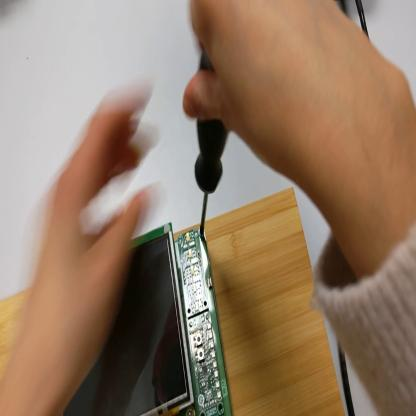hand: (22, 81, 154, 387), (184, 2, 358, 199)
low voltage board: (64, 221, 233, 411)
screwdriver-: (193, 49, 231, 234)
working area: (2, 190, 347, 415)
